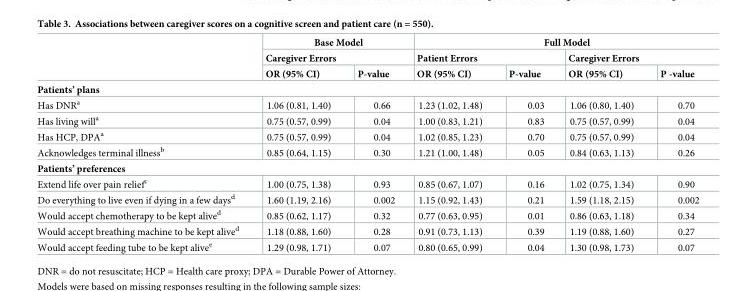table: (36, 37, 698, 252)
table column: (36, 37, 251, 252), (251, 37, 343, 252), (555, 37, 646, 252), (405, 37, 494, 252), (343, 37, 405, 252), (494, 37, 555, 252), (646, 37, 698, 252)
table column header: (36, 37, 698, 81)
table projected row header: (36, 81, 698, 96), (36, 160, 698, 175)
table row: (36, 143, 698, 160), (36, 65, 698, 81), (36, 96, 698, 112), (36, 112, 698, 128), (36, 175, 698, 191), (36, 206, 698, 222), (36, 222, 698, 238), (36, 50, 698, 65), (36, 81, 698, 96), (36, 128, 698, 143), (36, 160, 698, 175), (36, 191, 698, 206), (36, 238, 698, 252), (36, 37, 698, 50)
table spanning cell: (251, 37, 405, 65), (405, 37, 698, 50), (405, 50, 555, 65), (555, 50, 698, 65)
